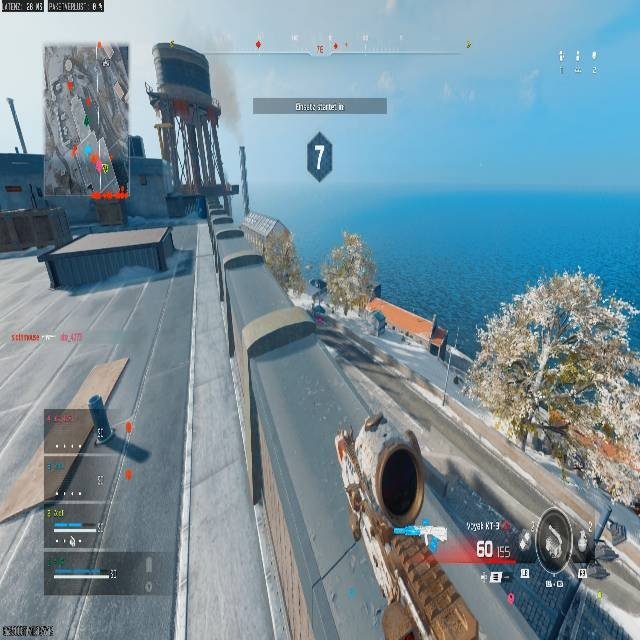player: (310, 303, 326, 325)
